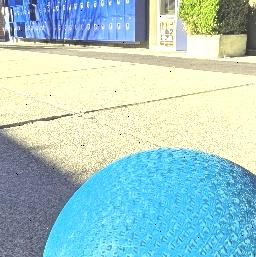algae: (35, 142, 256, 257)
